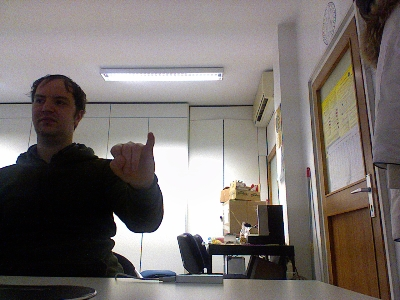小指: (107, 130, 156, 186)
